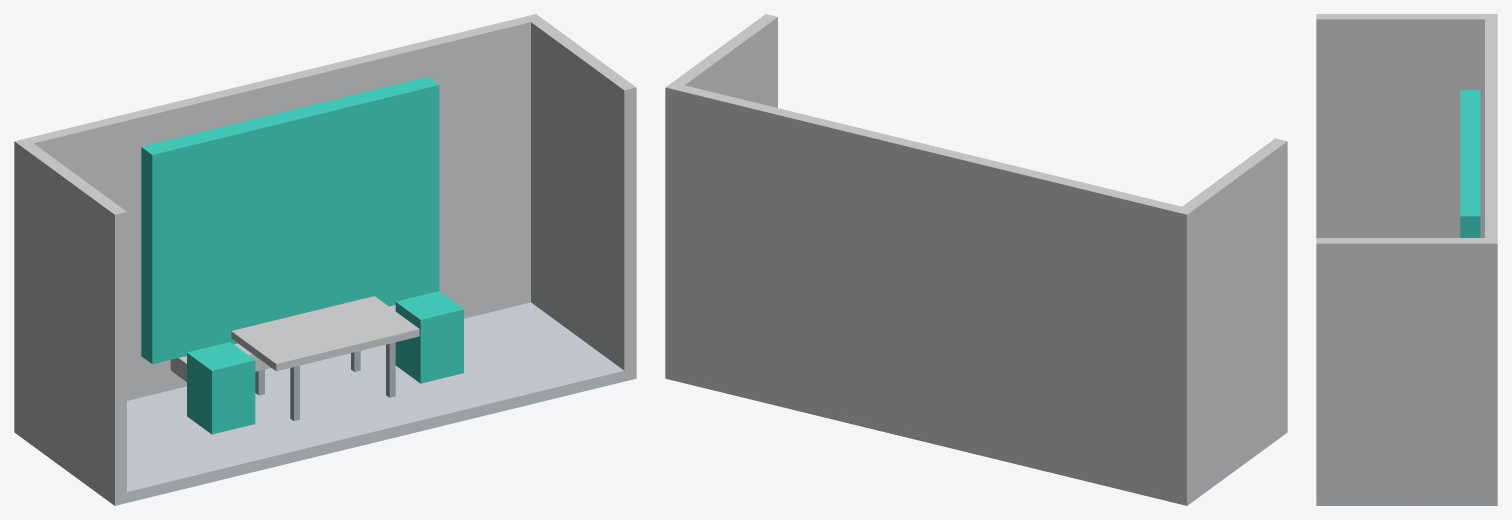
3 views of the same model, side by side, from view 1: azimuth 30°, elevation 25°; view 2: azimuth 150°, elevation 25°; view 3: azimuth 270°, elevation 25° (orthographic). The views are drawn at different scales.
Parts seen in each view (by area): view 1: Exhibition Booth Concept; view 2: Exhibition Booth Concept; view 3: Exhibition Booth Concept.
Part boxes in pixels (bbox=[...]): Exhibition Booth Concept: bbox=[14, 14, 636, 505]; Exhibition Booth Concept: bbox=[665, 14, 1287, 505]; Exhibition Booth Concept: bbox=[1316, 14, 1497, 505].
Bounding box in the file's own units: 6 × 3.2 × 2.
